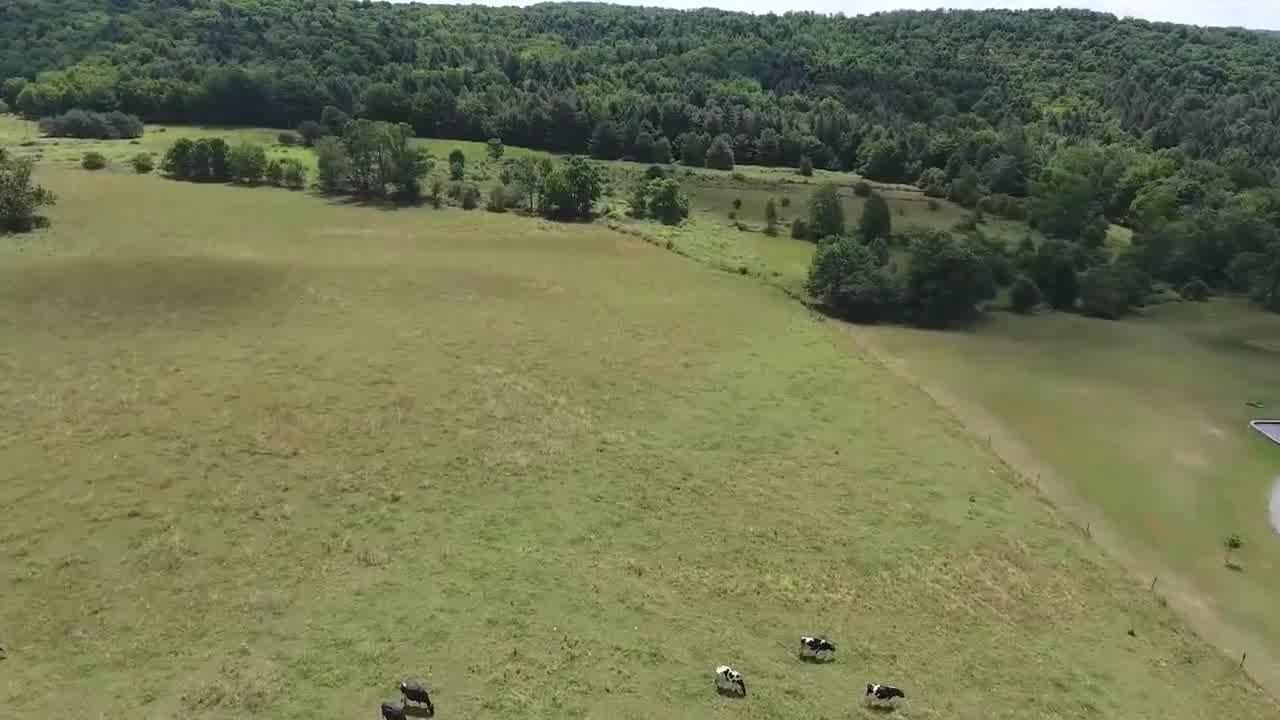cow: (398, 677, 437, 715), (861, 678, 909, 708), (797, 632, 835, 666), (713, 663, 749, 697), (379, 700, 408, 720)
